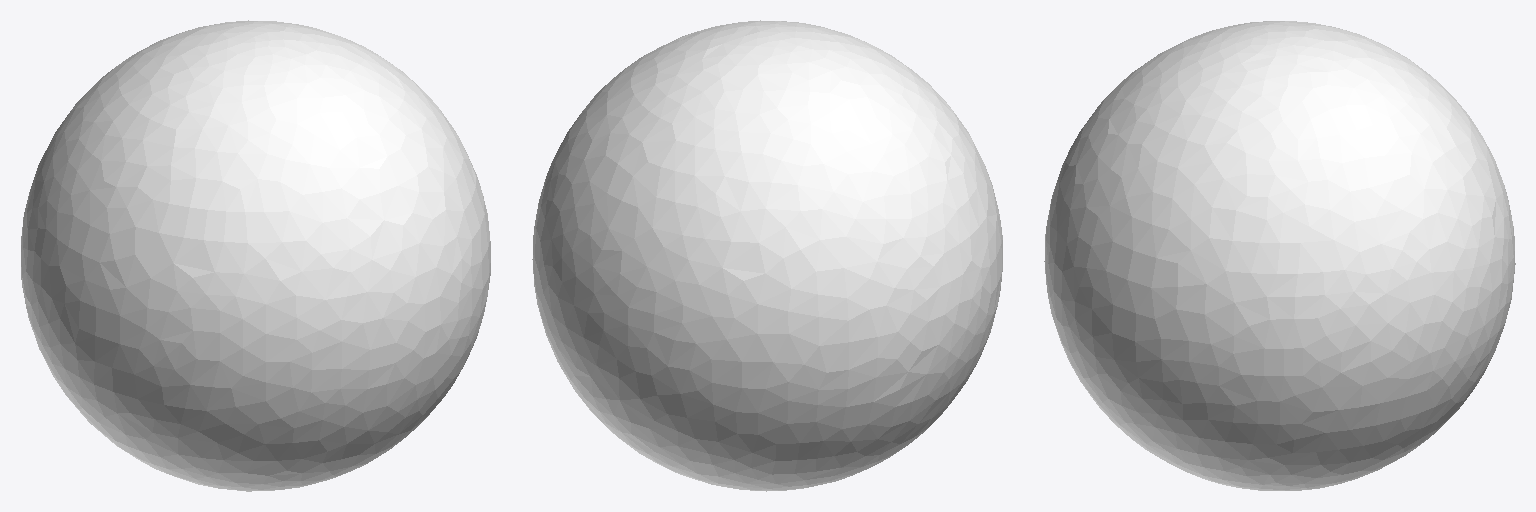
The robot description file, URDF, robot "000_sphere":
<robot name="000_sphere">
	<link name="_name">
		<visual>
			<origin xyz="0 0 0.04" rpy="0 0 0" />
			<geometry>
				<mesh filename="000_sphere/000_sphere.stl" scale="1 1 1" />
			</geometry>
			<material name="texture">
				<color rgba="1.0 1.0 1.0 1.0" />
			</material>
		</visual>
		<collision>
			<geometry>
				<mesh filename="000_sphere/000_sphere.stl" scale="1 1 1" />
			</geometry>
		<origin xyz="0 0 0.04" rpy="0 0 0" /></collision>
		<inertial>
			<mass value="1.0" />
			<inertia ixx="1.0" ixy="0.0" ixz="0.0" iyy="1.0" iyz="0.0" izz="1.0" />
		</inertial>
	</link>
</robot>

--- What the picture shows (computed from the rendered views, not written in the file) ---
3 views of the same robot in one strip: view 1: azimuth 30°, elevation 25°; view 2: azimuth 150°, elevation 25°; view 3: azimuth 270°, elevation 25° (orthographic).
Robot: 000_sphere — 1 links, 0 joints (none); root link _name; default pose: all joints at 0.
Visible links, largest first — view 1: _name; view 2: _name; view 3: _name.
Boxes of the visible links, x1,y1,x2,y2 form: _name: [21, 20, 490, 491]; _name: [532, 20, 1002, 491]; _name: [1044, 21, 1515, 490].
Bounding box of the posed robot: 0.0799 × 0.0799 × 0.08 m (x, y, z).
1 mesh visuals loaded from 1 distinct referenced files (1 binary STL).